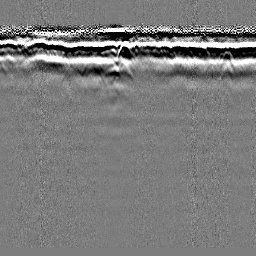cavity: (114, 41, 136, 58)
